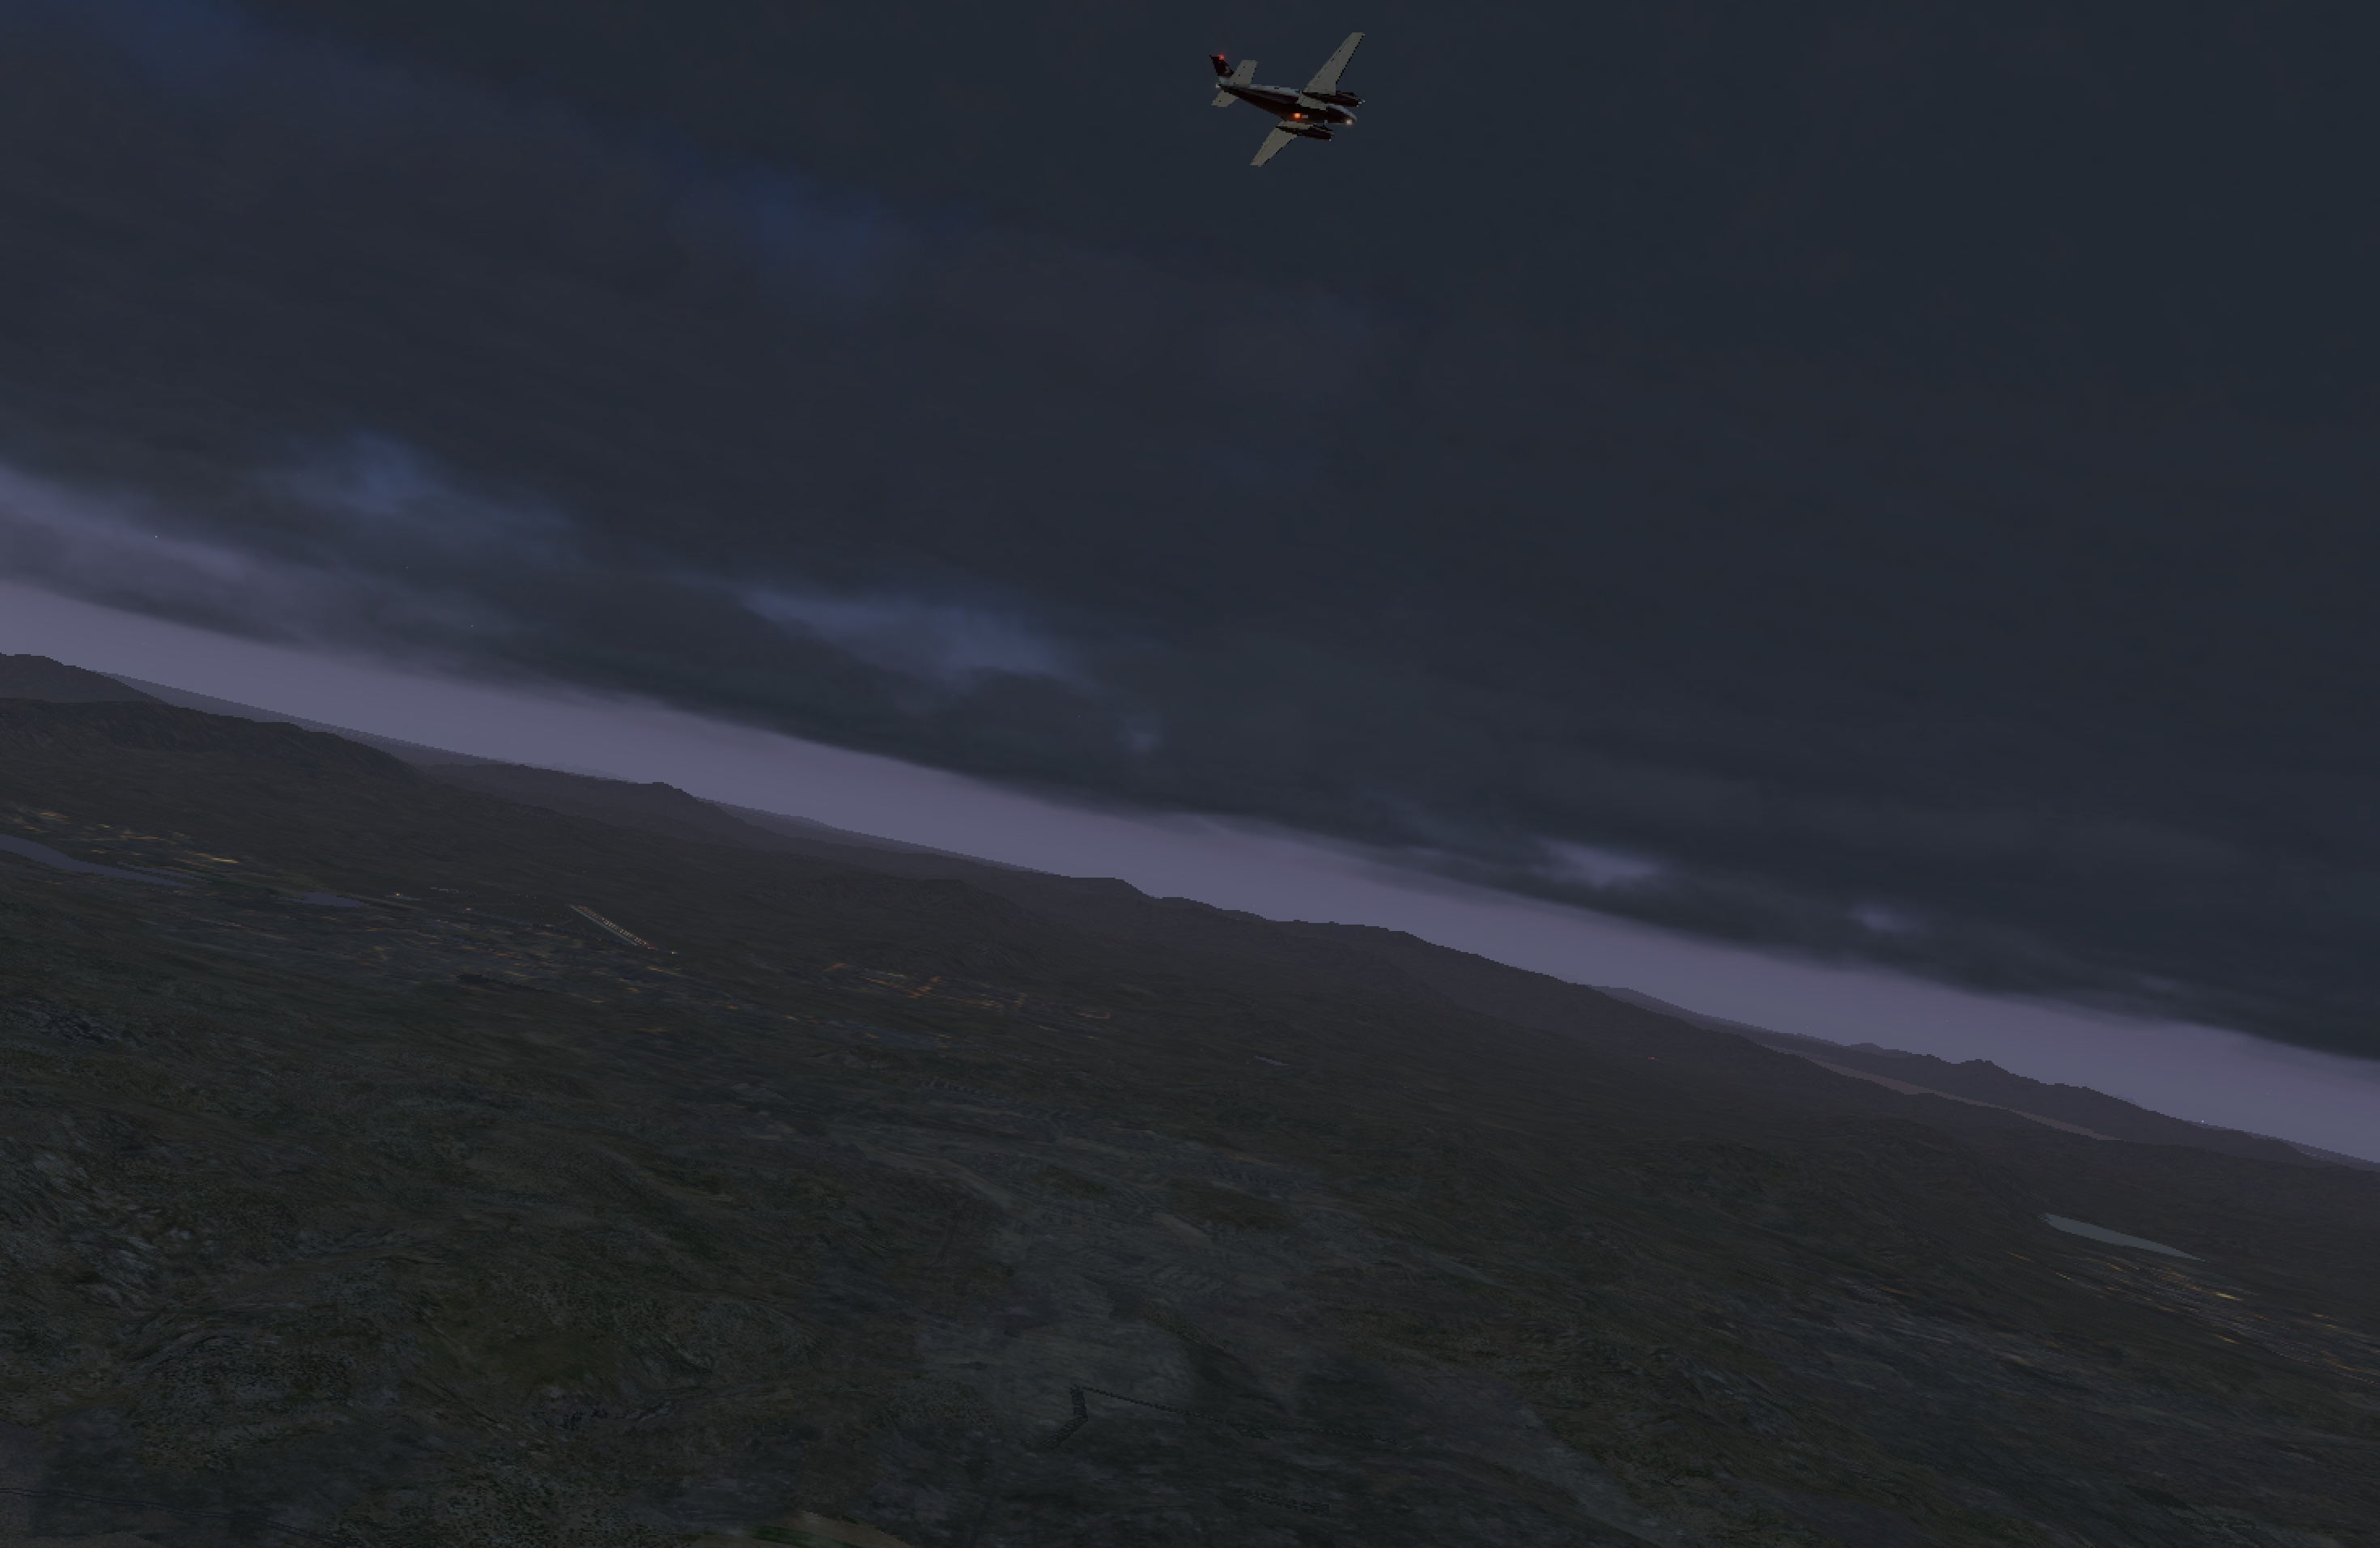aircraft: (1202, 75, 1422, 158)
